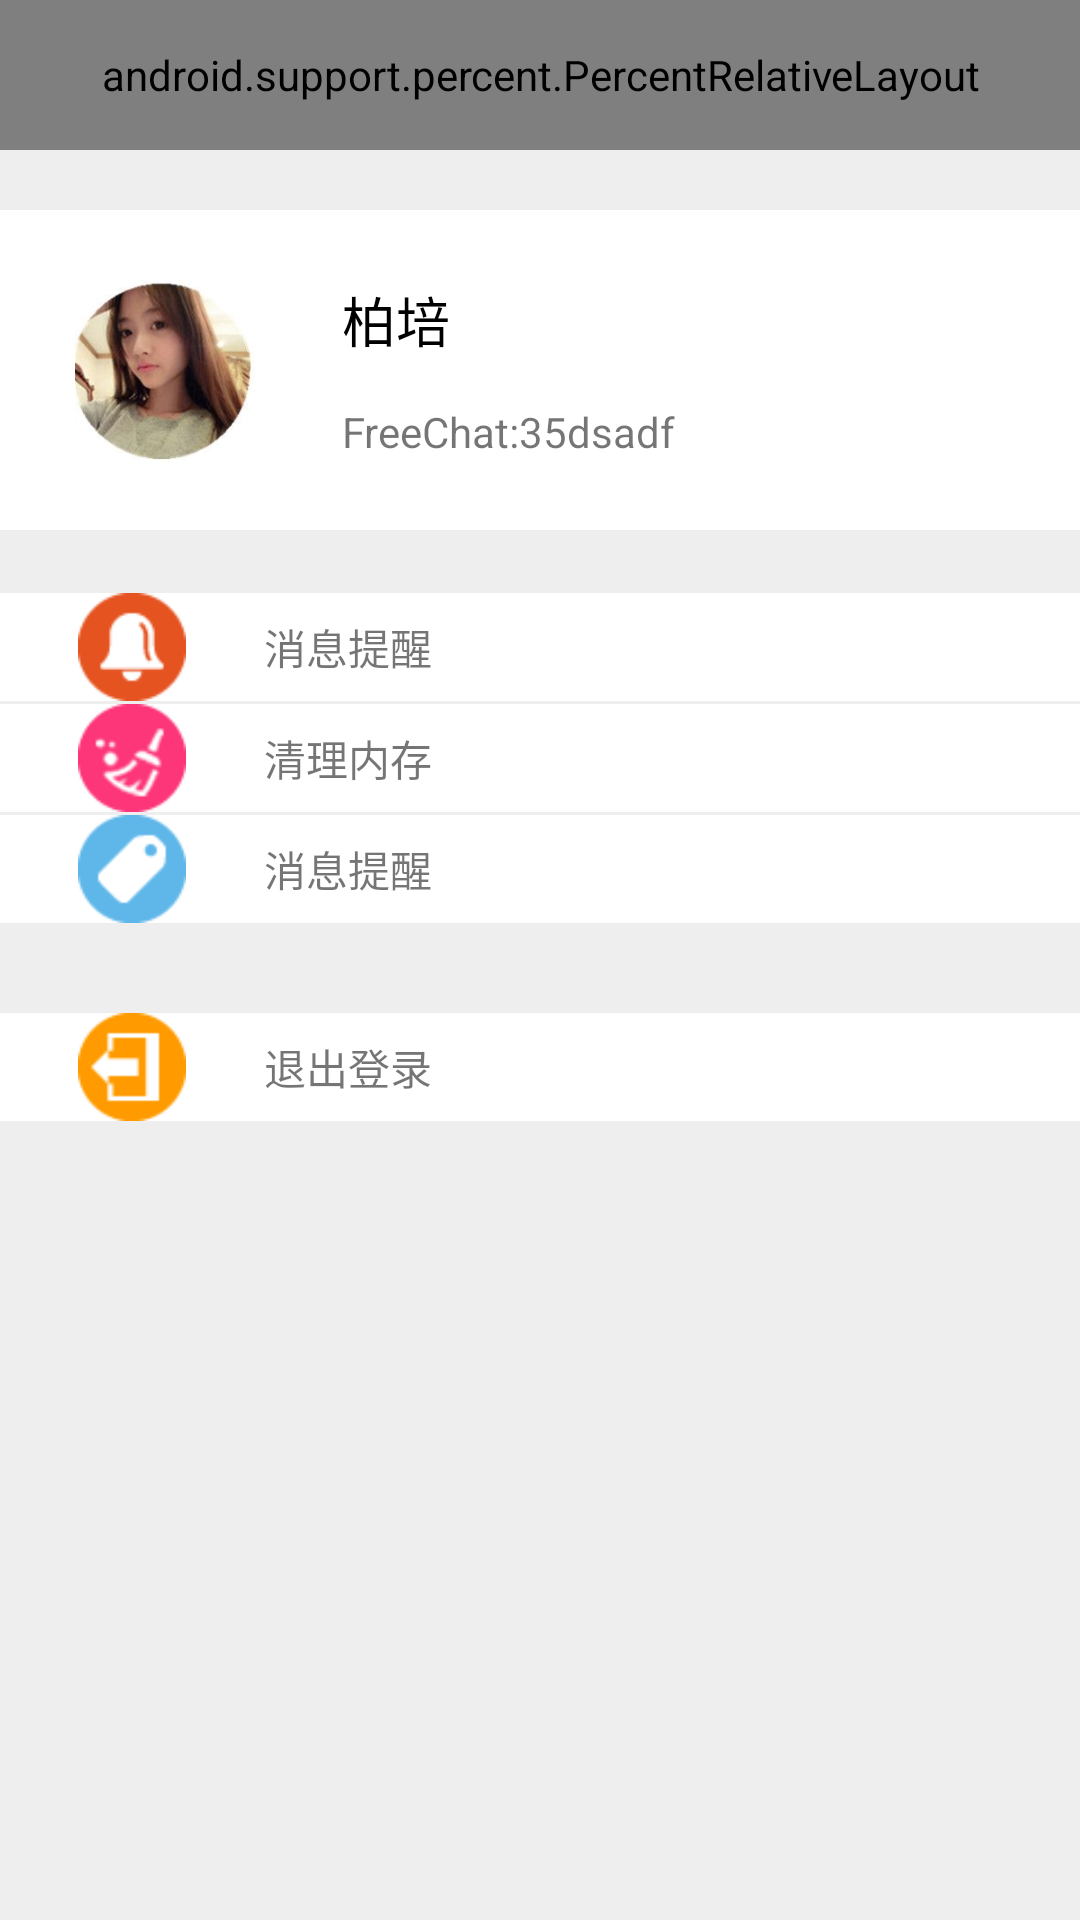

Named icons in this screenshot (1080 x 1920) and their centers, point (x, y):
clean cache: point (132, 758)
exit current account: point (132, 1067)
notifications: point (132, 647)
